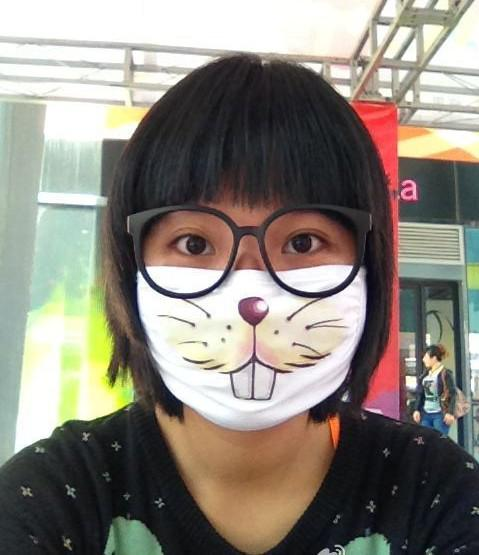OK: (134, 182, 359, 434)
